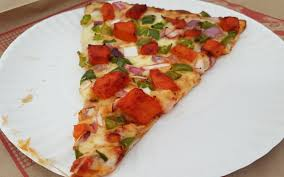pizza: (80, 3, 245, 175)
